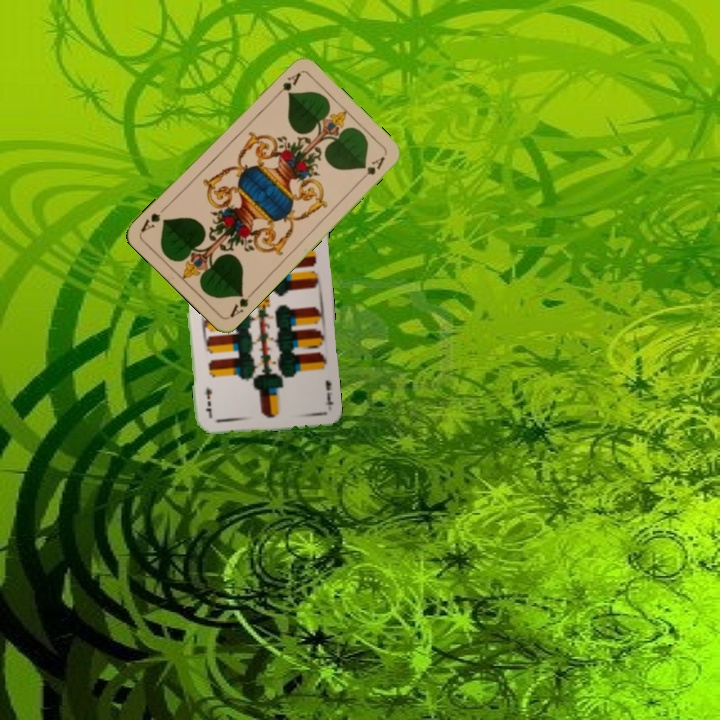E7: (321, 377, 336, 408)
GA: (225, 287, 257, 320), (271, 68, 303, 101)
